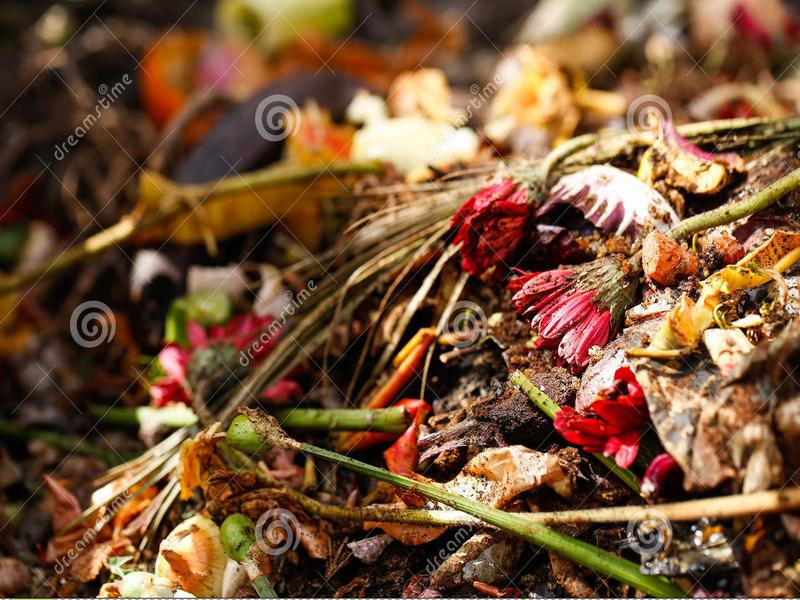flowers: (434, 110, 800, 499), (40, 401, 340, 600)
